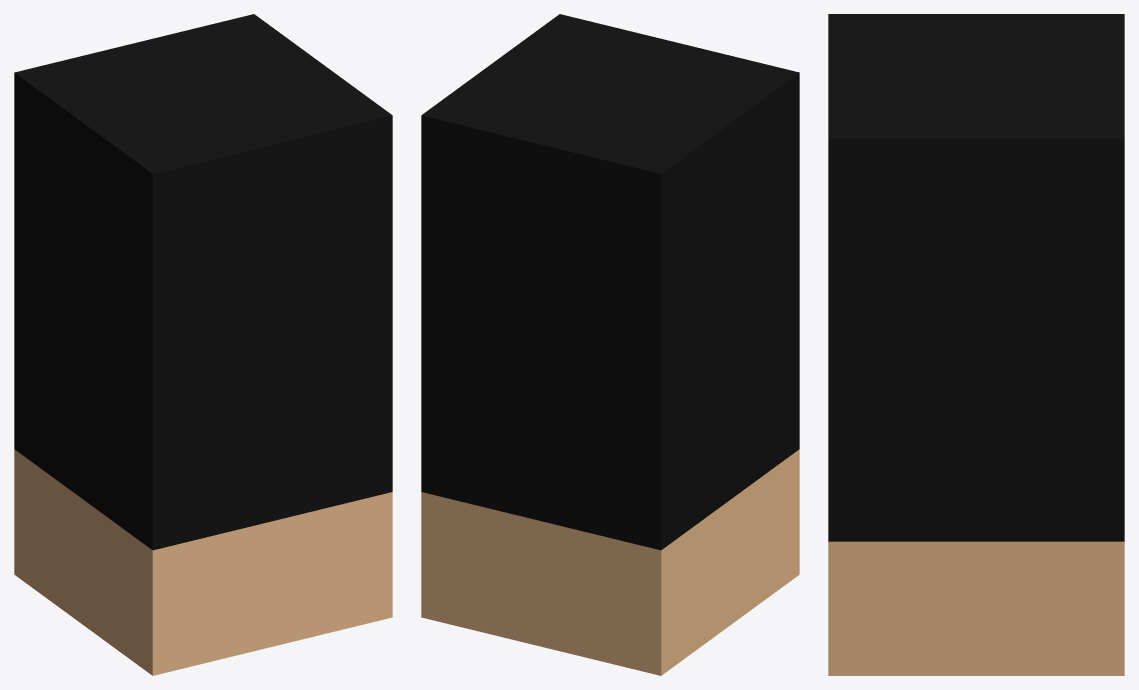
The model's file is leg1.obj.
3 renders of one model, left to right at view 1: azimuth 30°, elevation 25°; view 2: azimuth 150°, elevation 25°; view 3: azimuth 270°, elevation 25°, orthographic. The views are drawn at different scales.
Bounding box in the file's own units: 0.2 × 0.4 × 0.2.
1 material, 1 textured.
